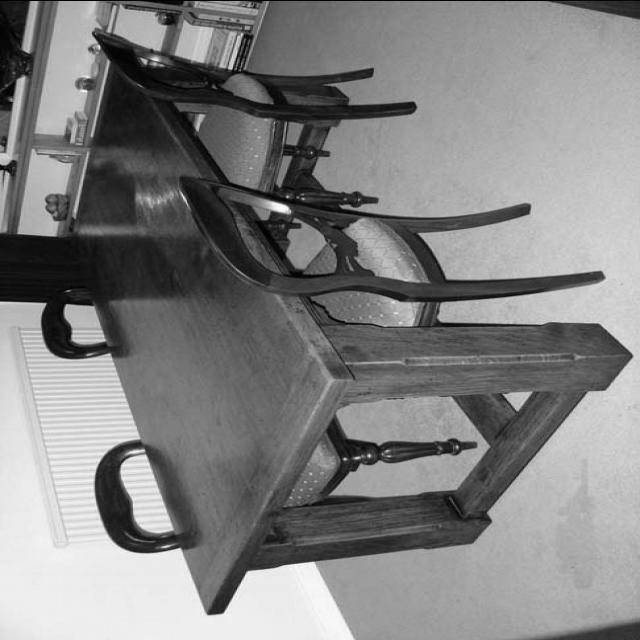chair: (153, 172, 616, 336), (78, 390, 470, 573), (92, 29, 414, 214)
table: (72, 46, 634, 616)
